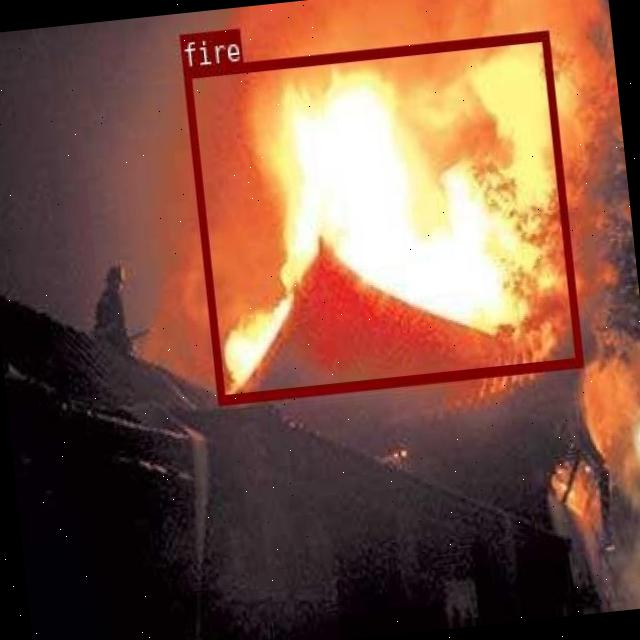fire: (182, 29, 582, 404)
